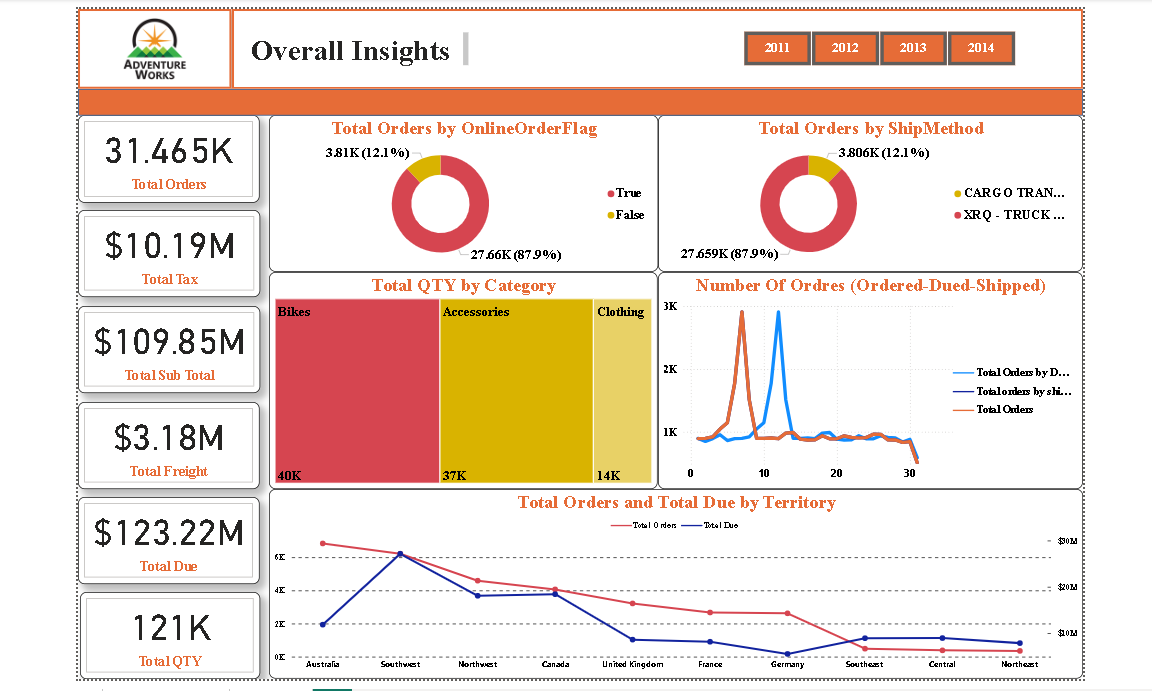

What the dashboard file says about the page in this screenshot:
{"tool":"powerbi","page":{"name":"Overall Insights","canvas":[1500,1000],"ordinal":0},"visuals":[{"type":"cardVisual","title":"Total Orders","fields":{"Data":["DAX-Measures.Total Orders"]},"box":[0,158.2,270.6,131.3],"z":0},{"type":"cardVisual","fields":{"Data":["DAX-Measures.Total Sub Total"]},"box":[0,443,272.2,129.7],"z":1000},{"type":"cardVisual","fields":{"Data":["DAX-Measures.Total Tax"]},"box":[0,300.6,272.2,129.7],"z":2000},{"type":"cardVisual","fields":{"Data":["DAX-Measures.Total Freight"]},"box":[0,587,270.6,129.7],"z":3000},{"type":"cardVisual","fields":{"Data":["DAX-Measures.Total Due"]},"box":[0,727.8,270.6,129.7],"z":4000},{"type":"cardVisual","fields":{"Data":["DAX-Measures.Total QTY"]},"box":[3.2,870.3,269,129.7],"z":5000},{"type":"donutChart","fields":{"Series":["ShipMethod|Dimms.ShipMethod"],"Y":["DAX-Measures.Total Orders"]},"box":[865.5,158.2,634.5,234.2],"z":6000},{"type":"treemap","fields":{"Group":["Product|Dimms.Category","Product|Dimms.SubCategory","Product|Dimms.Product"],"Values":["DAX-Measures.Total QTY"]},"box":[284.8,392.4,580.3,324.2],"z":7000},{"type":"lineChart","title":"Number Of Ordres (Ordered-Dued-Shipped)","fields":{"Y":["DAX-Measures.Total Orders by Due Date","DAX-Measures.Total orders by ship date","DAX-Measures.Total Orders"],"Category":["Date|Dimms.Day"]},"box":[865.5,392.4,634.5,324.4],"z":8000},{"type":"donutChart","fields":{"Category":["Orders.OnlineOrderFlag"],"Y":["DAX-Measures.Total Orders"]},"box":[284.8,158.2,580.7,234.2],"z":9000},{"type":"lineChart","title":"Total Orders and Total Due by Territory","fields":{"Category":["Territory|Dimms.TerritoryName"],"Y":["DAX-Measures.Total Orders"],"Y2":["DAX-Measures.Total Due"]},"box":[285,716.7,1215,283.3],"z":10000},{"type":"image","box":[0,0,229.4,118.7],"z":11000},{"type":"shape","box":[0,118.7,1500,39.6],"z":12000},{"type":"shape","box":[229.9,0,1270.1,119.4],"z":13000},{"type":"textbox","box":[253.2,30.1,333.9,60.1],"z":14000},{"type":"slicer","fields":{"Values":["Date|Dimms.Year"]},"box":[968.7,26.9,453.7,64.2],"z":15000}]}

Visuals, with their boxes on the page's 1500x1000 design canvas (x1, y1, x2, y2). These are canvas units, not pixel positions in the 1152x691 screenshot, which may show the page scaled, cropped or inside an application window:
"Total Orders" cardVisual: x1=0 y1=158 x2=271 y2=290
cardVisual - DAX-Measures.Total Sub Total: x1=0 y1=443 x2=272 y2=573
cardVisual - DAX-Measures.Total Tax: x1=0 y1=301 x2=272 y2=430
cardVisual - DAX-Measures.Total Freight: x1=0 y1=587 x2=271 y2=717
cardVisual - DAX-Measures.Total Due: x1=0 y1=728 x2=271 y2=858
cardVisual - DAX-Measures.Total QTY: x1=3 y1=870 x2=272 y2=1000
donutChart - ShipMethod|Dimms.ShipMethod x DAX-Measures.Total Orders: x1=866 y1=158 x2=1500 y2=392
treemap - Product|Dimms.Category x Product|Dimms.SubCategory: x1=285 y1=392 x2=865 y2=717
"Number Of Ordres (Ordered-Dued-Shipped)" lineChart: x1=866 y1=392 x2=1500 y2=717
donutChart - Orders.OnlineOrderFlag x DAX-Measures.Total Orders: x1=285 y1=158 x2=866 y2=392
"Total Orders and Total Due by Territory" lineChart: x1=285 y1=717 x2=1500 y2=1000
image: x1=0 y1=0 x2=229 y2=119
shape: x1=0 y1=119 x2=1500 y2=158
shape: x1=230 y1=0 x2=1500 y2=119
textbox: x1=253 y1=30 x2=587 y2=90
slicer - Date|Dimms.Year: x1=969 y1=27 x2=1422 y2=91
